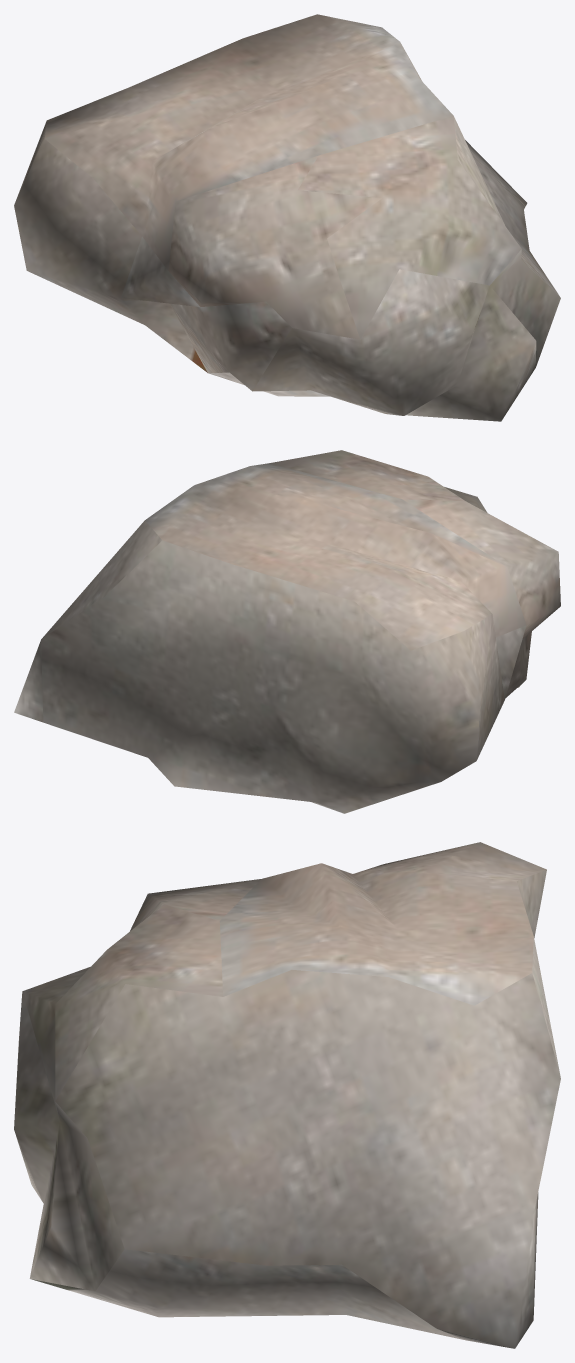
Rendered from Q_Limestone_11.fbx.
3 renders of one model, top to bottom at view 1: azimuth 30°, elevation 25°; view 2: azimuth 150°, elevation 25°; view 3: azimuth 270°, elevation 25°, orthographic. The views are drawn at different scales.
Parts seen in each view (by area): view 1: Aset_stone_rough_S_udmhajrva_05_LOD6; view 2: Aset_stone_rough_S_udmhajrva_05_LOD6; view 3: Aset_stone_rough_S_udmhajrva_05_LOD6.
Part boxes in pixels (bbox=[...]): Aset_stone_rough_S_udmhajrva_05_LOD6: bbox=[14, 14, 560, 421]; Aset_stone_rough_S_udmhajrva_05_LOD6: bbox=[14, 450, 560, 813]; Aset_stone_rough_S_udmhajrva_05_LOD6: bbox=[14, 842, 560, 1348].
Size of the model in its own units: 36.32 by 19.87 by 28.33.
Materials: 1 (1 with a texture image).
